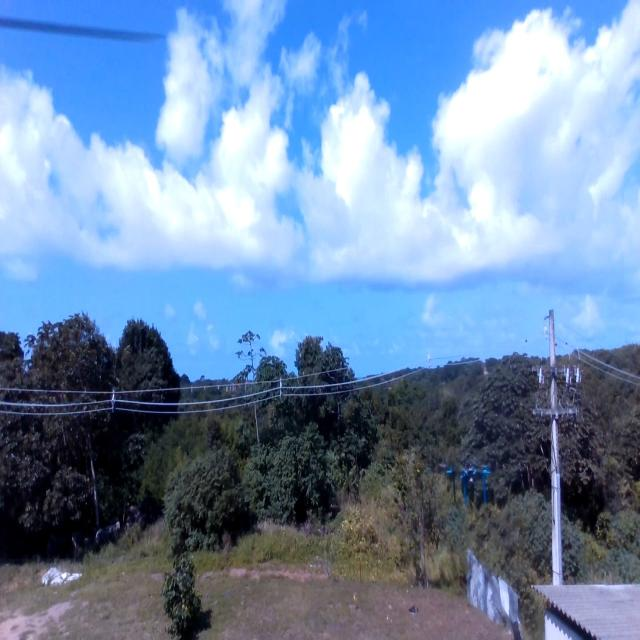-uav-: (438, 454, 509, 534)
